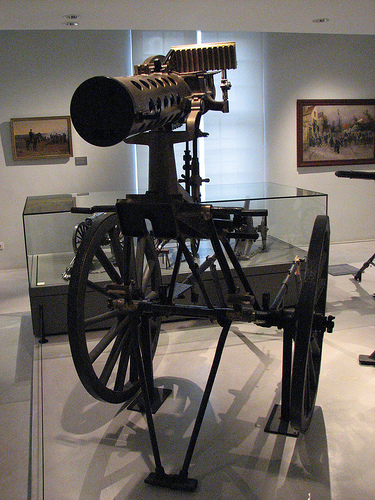rifle: (38, 47, 274, 445)
